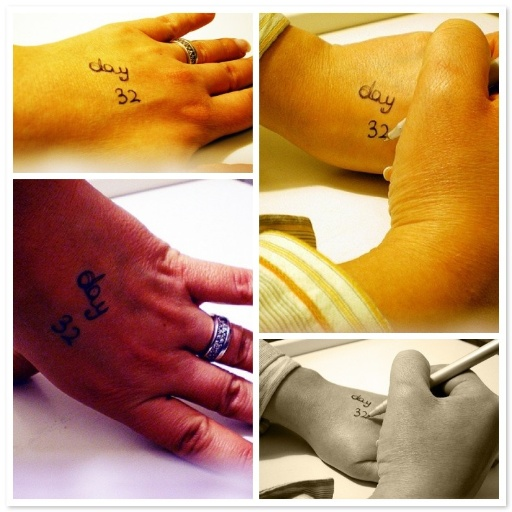hand: (31, 180, 268, 464), (11, 10, 253, 173), (383, 16, 499, 330), (295, 28, 433, 179), (373, 348, 499, 499), (302, 382, 388, 482)
